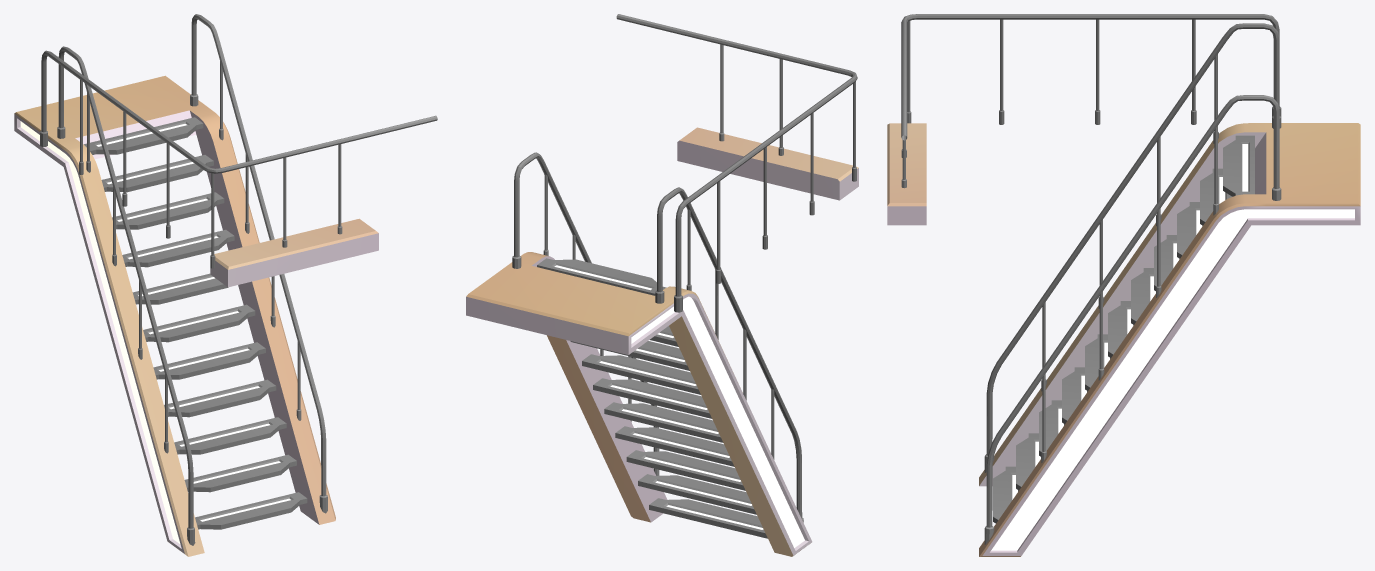
The model's file is Stairs_Last.fbx.
The picture shows the model from 3 angles, left to right: view 1: azimuth 30°, elevation 25°; view 2: azimuth 150°, elevation 25°; view 3: azimuth 270°, elevation 25°; orthographic projection. The views are drawn at different scales.
Parts seen in each view (by area): view 1: Stairs_Last; view 2: Stairs_Last; view 3: Stairs_Last.
Boxes of the visible parts, x1,y1,x2,y2 form: Stairs_Last: (14,14,437,556); Stairs_Last: (466,14,858,556); Stairs_Last: (887,14,1360,556).
Size of the model in its own units: 246 by 427 by 400.
